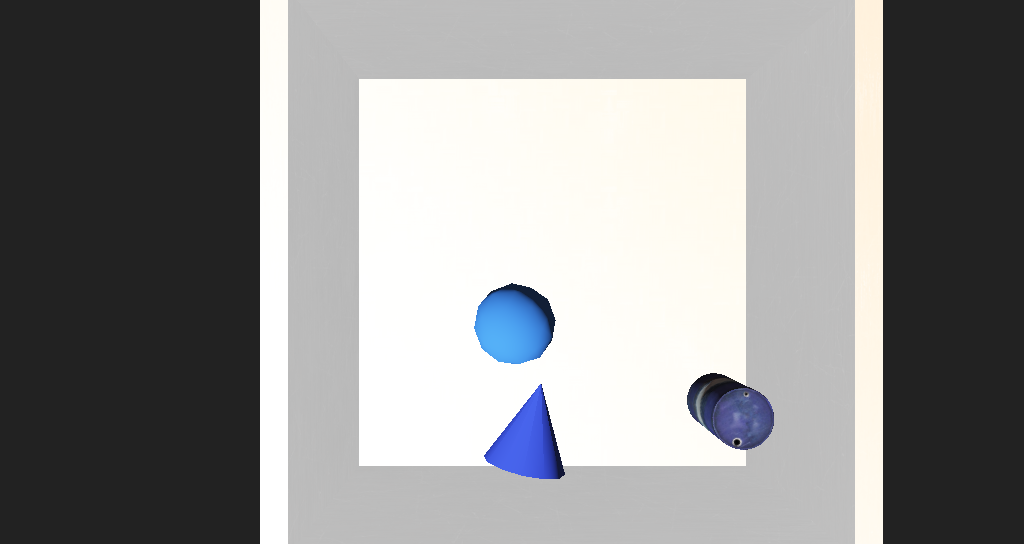cone: (613, 324, 667, 363)
cylinder: (455, 322, 529, 384)
sphere: (448, 272, 509, 320)
